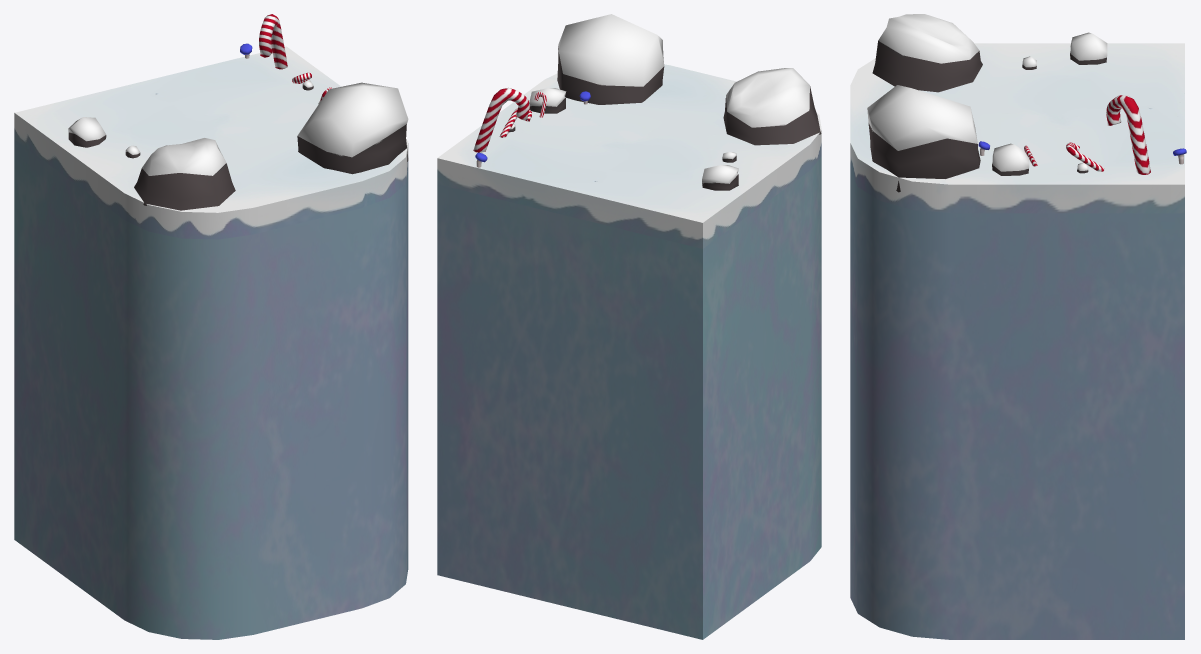
Rendered from InicioNieve.fbx.
3 renders of one model, left to right at view 1: azimuth 30°, elevation 25°; view 2: azimuth 150°, elevation 25°; view 3: azimuth 270°, elevation 25°, orthographic. The views are drawn at different scales.
Parts seen in each view (by area): view 1: InicioNieve, Cube.012, Cube.007, Cube.051; view 2: InicioNieve, Cube.012, Cube.007, Cube.051, Cube.011; view 3: InicioNieve, Cube.012, Cube.007, Cube.051, Cube.011.
Boxes of the visible parts, x1,y1,x2,y2 form: InicioNieve: (14, 46, 408, 639); Cube.012: (134, 82, 408, 210); Cube.007: (259, 14, 287, 69); Cube.051: (68, 117, 106, 147); InicioNieve: (437, 64, 821, 639); Cube.012: (557, 14, 821, 145); Cube.007: (473, 87, 529, 152); Cube.051: (702, 165, 738, 190); Cube.011: (529, 88, 566, 113); InicioNieve: (850, 43, 1184, 639); Cube.012: (867, 14, 982, 192); Cube.007: (1106, 95, 1150, 174); Cube.051: (1070, 32, 1107, 64); Cube.011: (992, 143, 1029, 175).
Size of the model in its own units: 1000 by 1732 by 1005.
